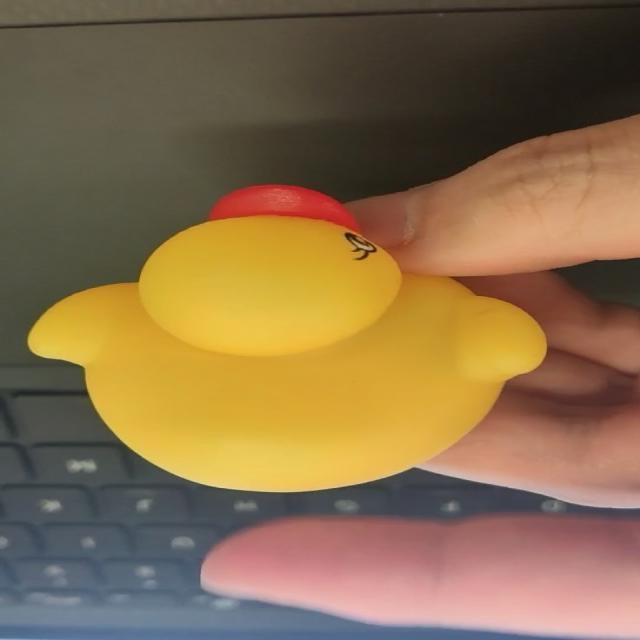rubber-duck: (27, 184, 544, 490)
